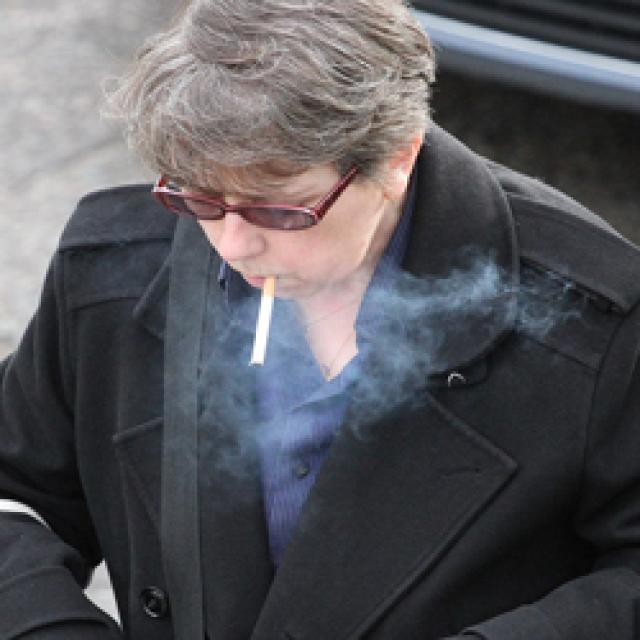Smooking: (238, 275, 288, 374)
